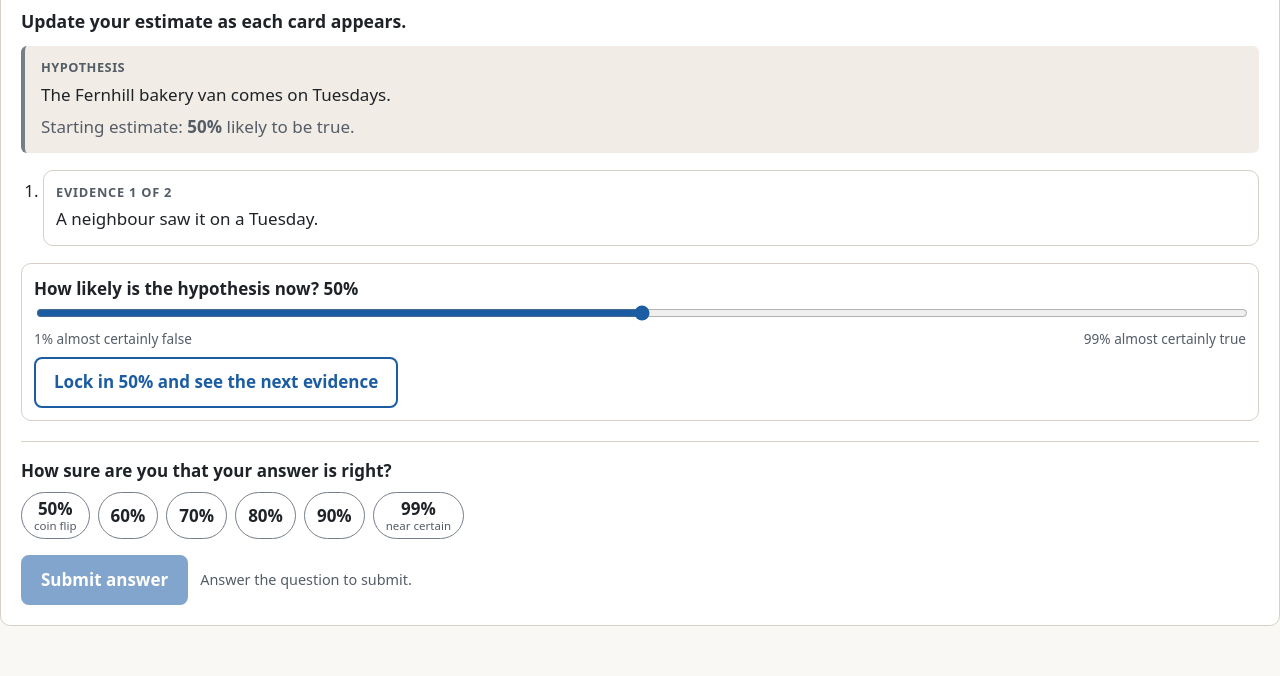
Scenario: EvidenceSlider › reveals evidence one card at a time and scores each update
The width and height of the screenshot is (1280, 676).
Expected: the text "timetable" is not shown
Set the slider to "75" at (947, 313), box [36,305,1248,321]
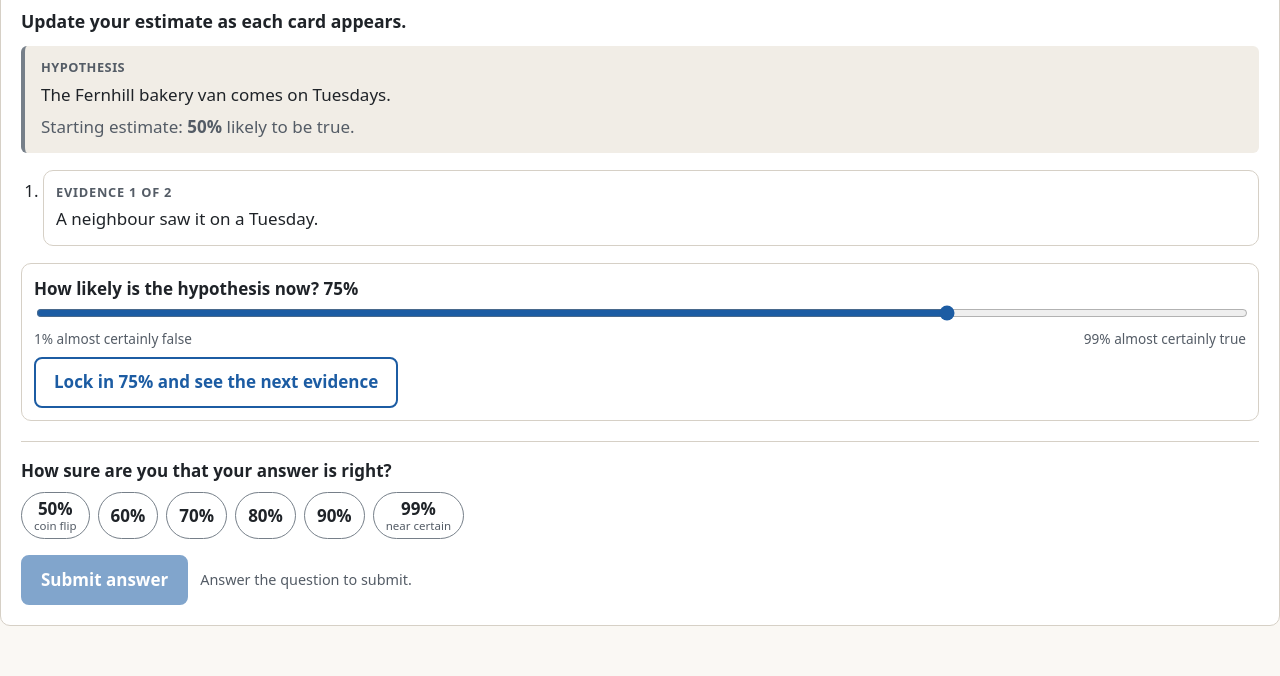
Click the button "Lock in 75% and see the next evidence" at (216, 383), box [34,357,398,408]
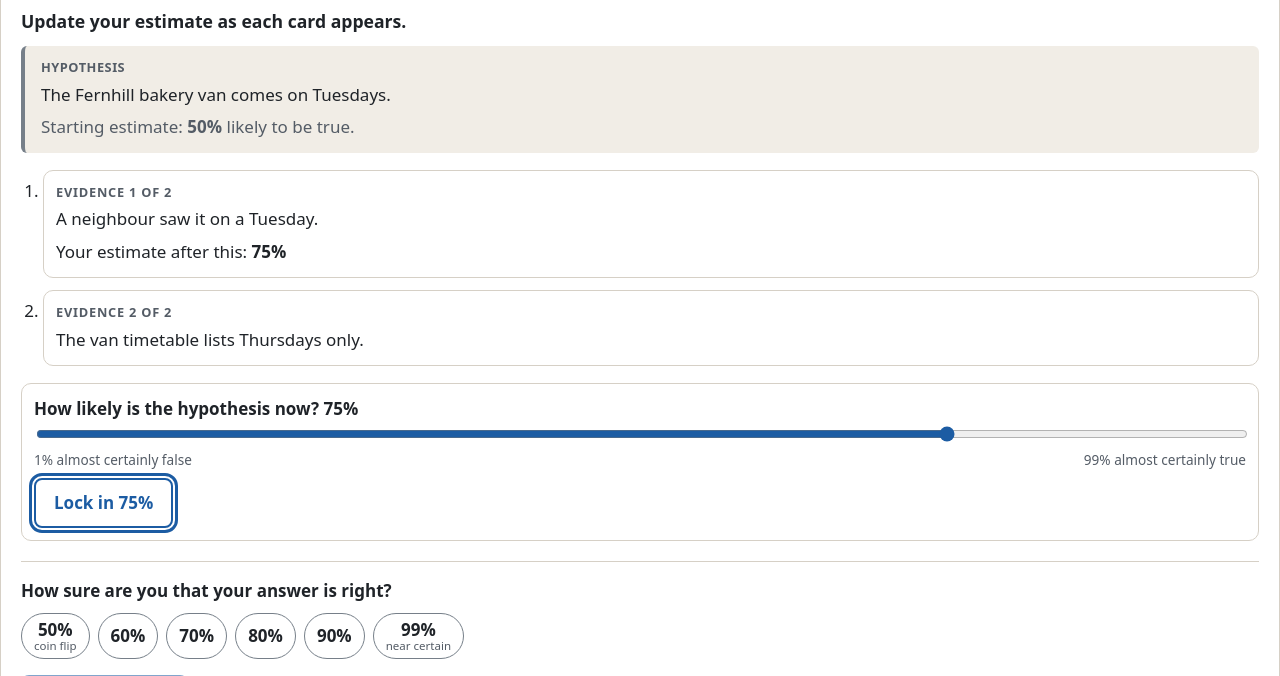
Expected: the text "Evidence 2 of 2 The van timetable lists Thursdays only." is shown, [43,290,1259,366]
Set the slider to "38" at (496, 434), box [36,426,1248,442]
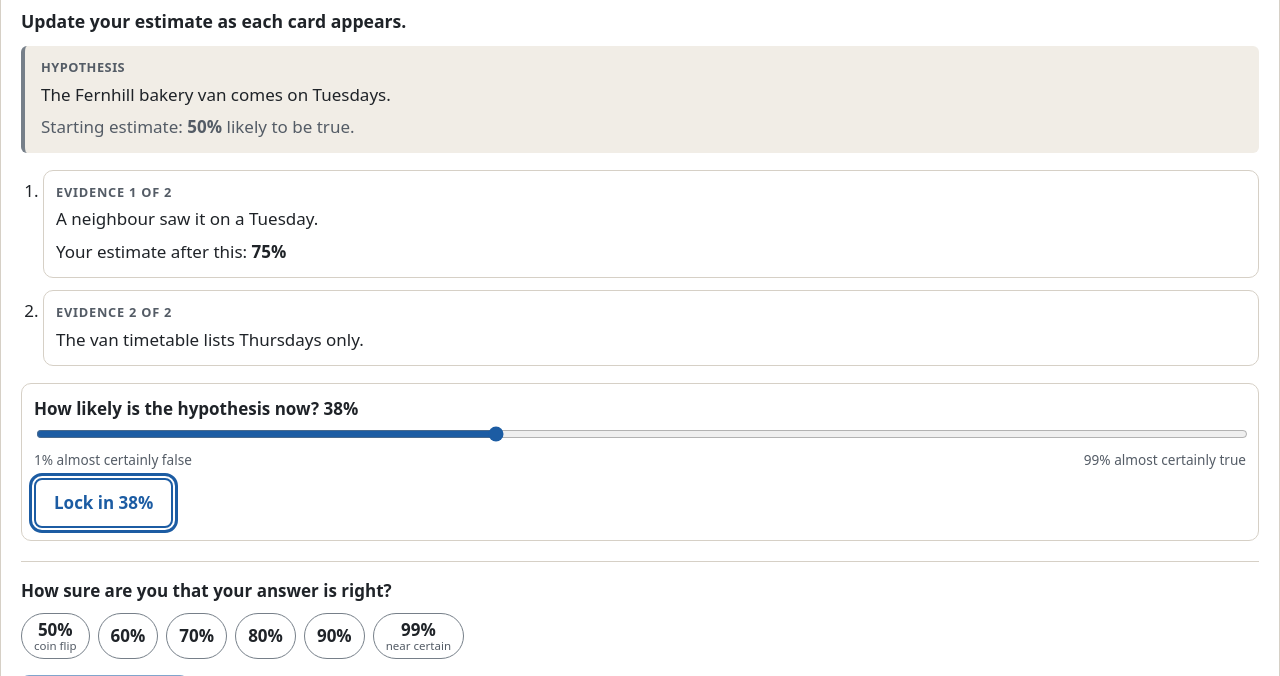
Click the button "Lock in 38%" at (104, 503), box [34,478,173,528]
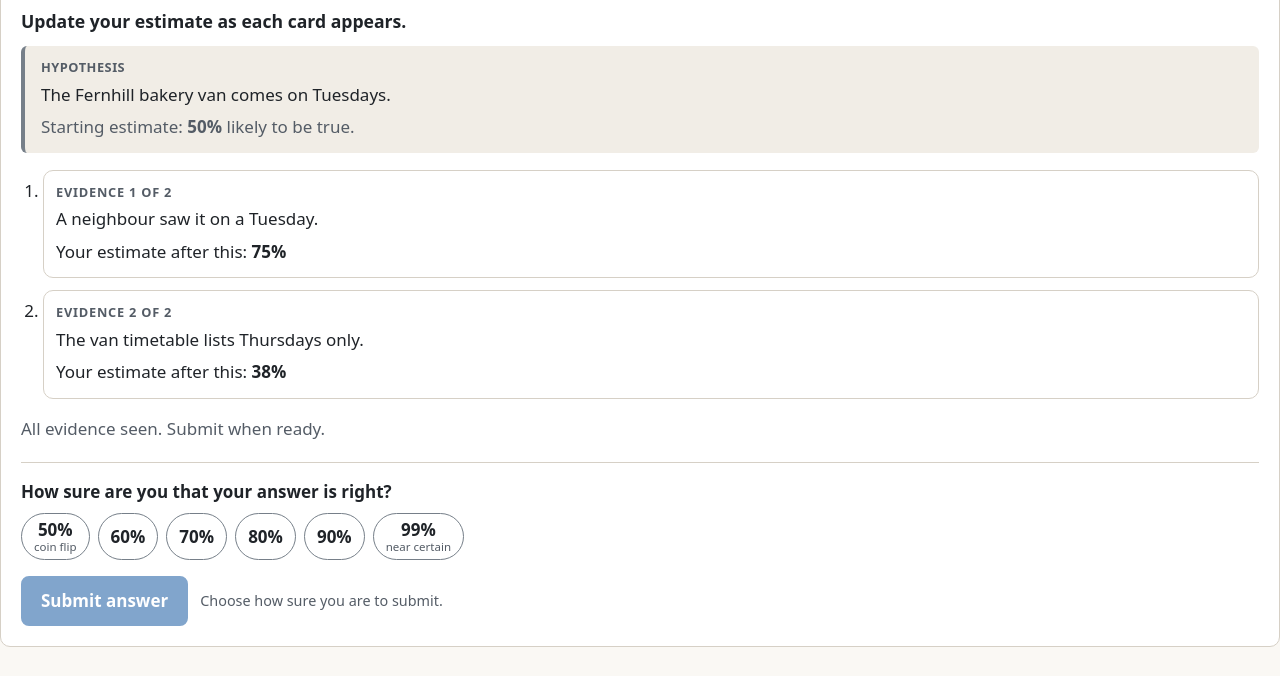
Click the radio button labelled "80%" at (266, 537), box [235,513,296,560]
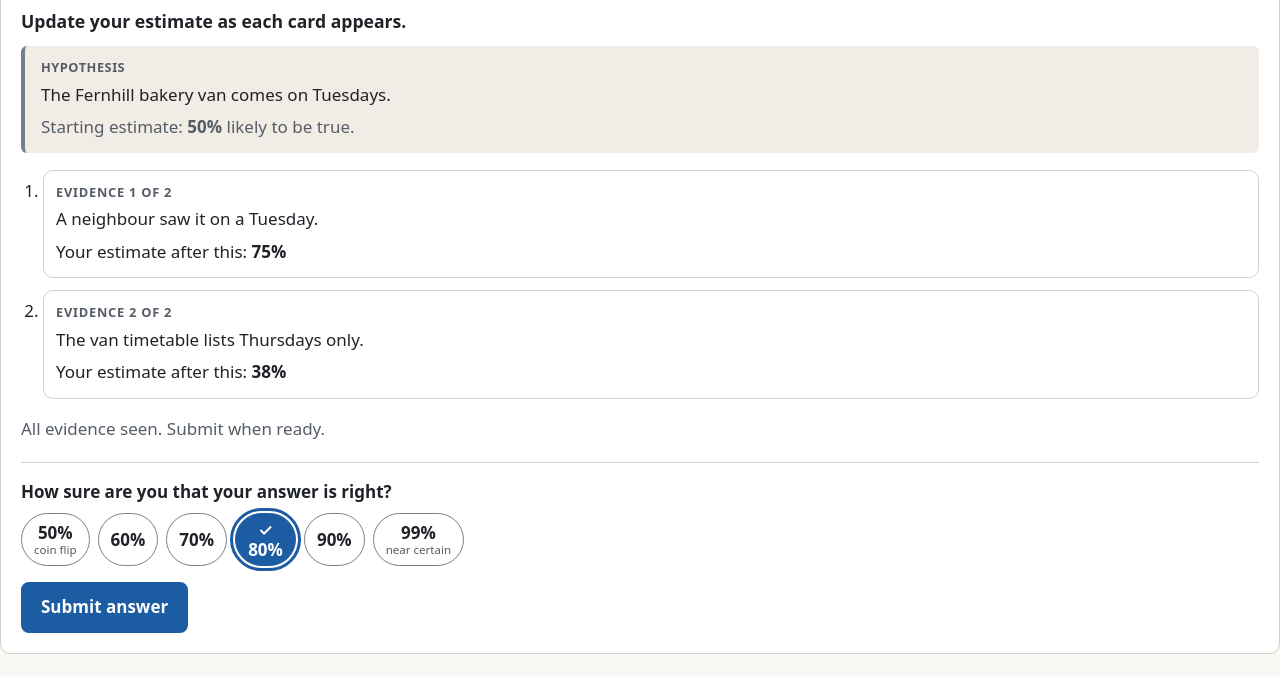
Click the button "Submit answer" at (105, 607), box [21,582,188,633]
(page scrolled)
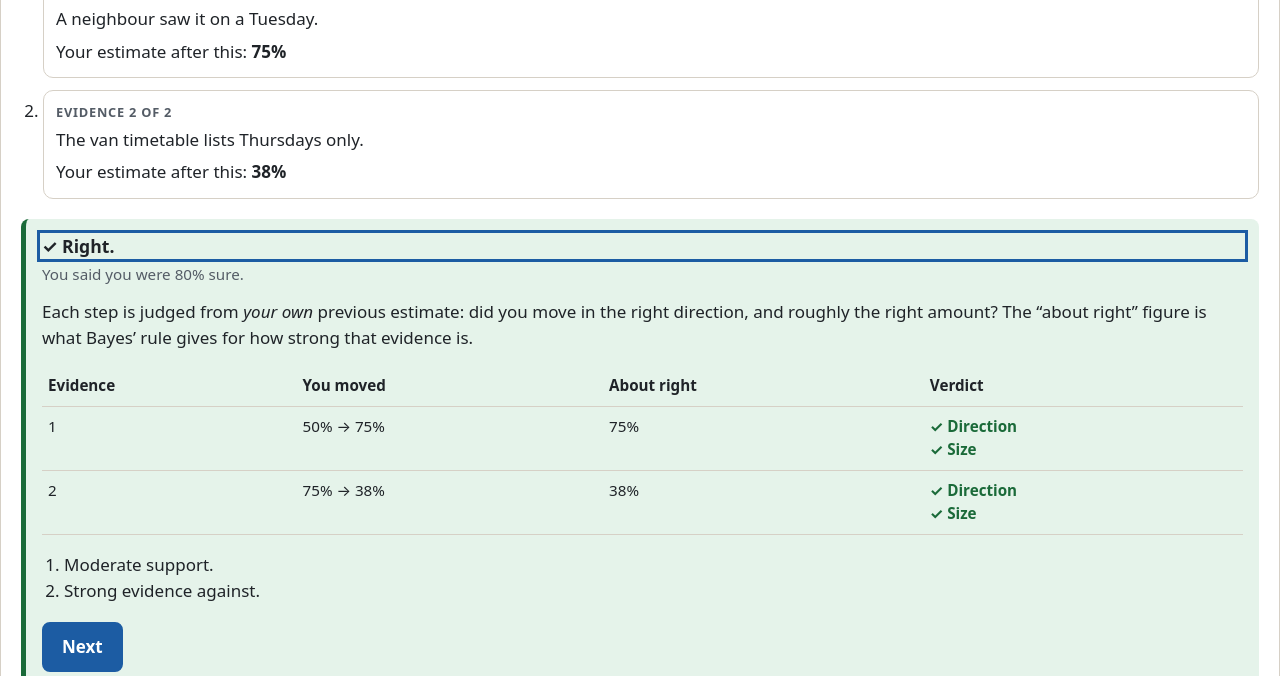
Expected: the table is shown, [42,366,1243,535]
